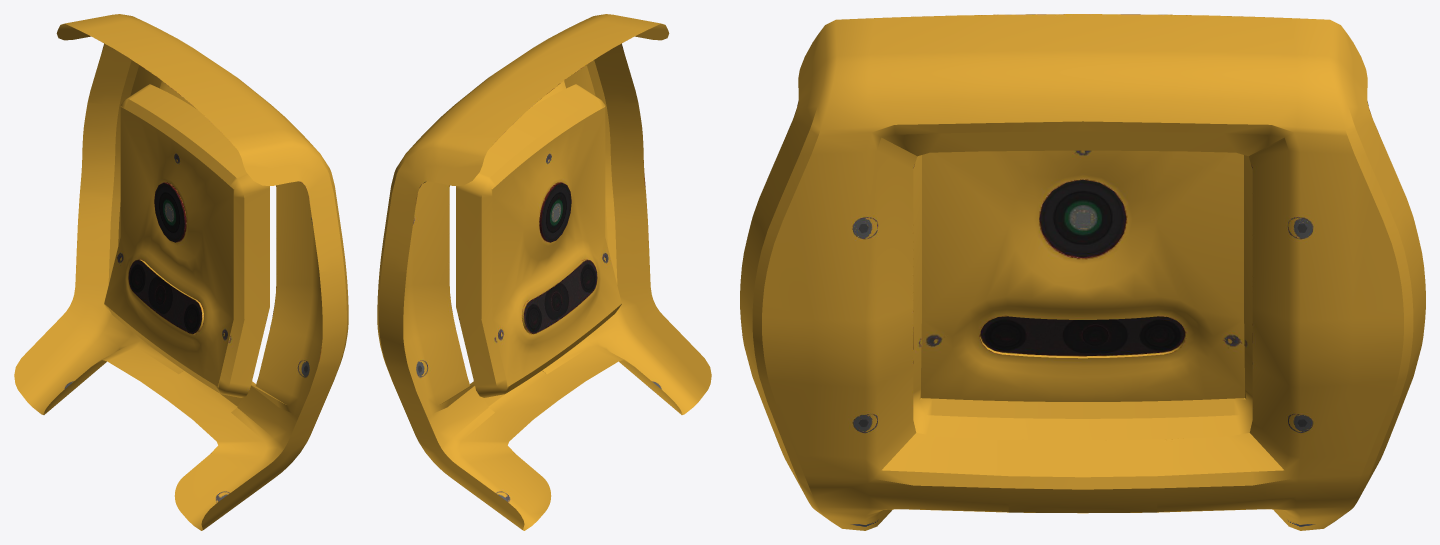
Rendered from face_shell.dae.
The picture shows the model from 3 angles, left to right: view 1: azimuth 30°, elevation 25°; view 2: azimuth 150°, elevation 25°; view 3: azimuth 270°, elevation 25°; orthographic projection. The views are drawn at different scales.
Visible parts, largest first — view 1: 105227.001; view 2: 105227.001; view 3: 105227.001.
Part boxes in pixels (<box>): 105227.001: <box>14,14,348,530</box>; 105227.001: <box>377,14,711,530</box>; 105227.001: <box>740,14,1425,530</box>.
Bounding box in the file's own units: 0.0722 × 0.2198 × 0.1928.
